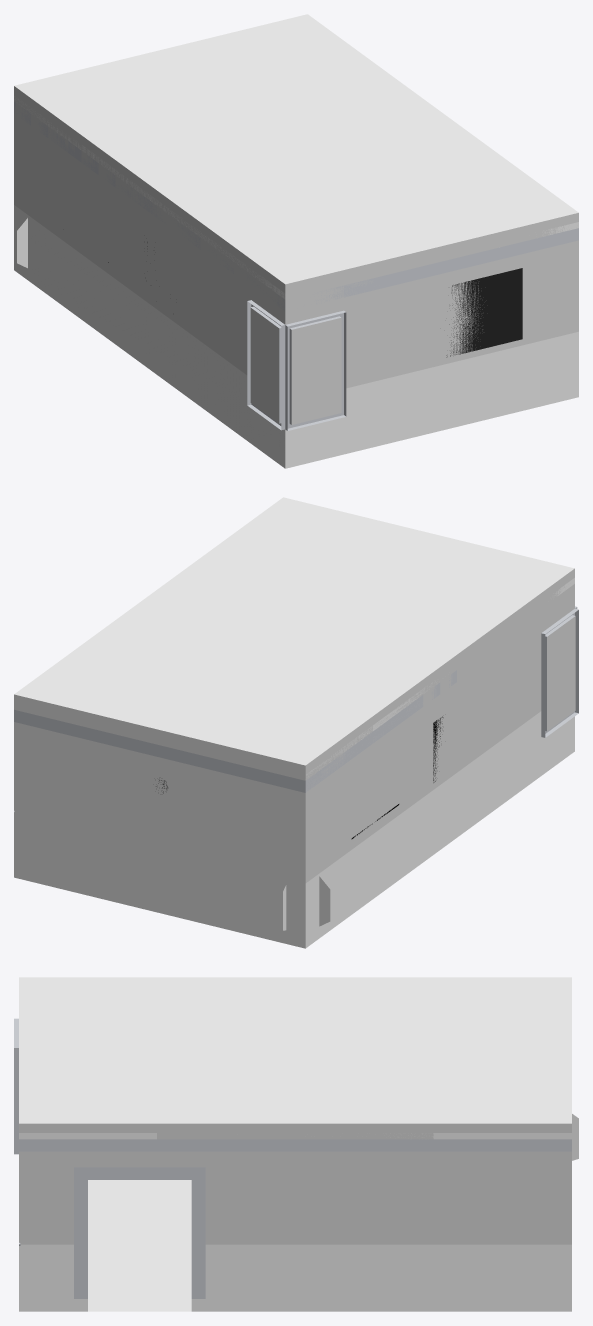
Rendered from 32-livingroom_fbx.glb.
3 views of the same model, one above another, from view 1: azimuth 30°, elevation 25°; view 2: azimuth 150°, elevation 25°; view 3: azimuth 270°, elevation 25° (orthographic). The views are drawn at different scales.
Visible parts, largest first — view 1: Plafon, Wall.001, Wall, Window.001, Picture, Window.002, UpperPlafon, Cube.002; view 2: Plafon, Wall.001, Wall.003, Misc, Misc.001, Window.002, UpperPlafon, Cube.001; view 3: Plafon, Wall.002, Floor, UpperPlafon, Cube.001, Cube, Window.001, SideTegel.102, SideTegel.101, SideTegel.103, SideTegel.104, SideTegel.070 (+34 smaller).
Boxes of the visible parts, <box> form: Plafon: <box>14,14,578,284</box>; Wall.001: <box>14,86,285,468</box>; Wall: <box>285,213,578,468</box>; Window.001: <box>285,310,346,430</box>; Picture: <box>446,268,522,357</box>; Window.002: <box>247,300,285,430</box>; UpperPlafon: <box>242,123,350,174</box>; Cube.002: <box>82,145,216,248</box>; Plafon: <box>14,497,574,765</box>; Wall.001: <box>305,568,574,940</box>; Wall.003: <box>14,694,305,936</box>; Misc: <box>238,777,267,926</box>; Misc.001: <box>52,731,80,881</box>; Window.002: <box>541,608,578,737</box>; UpperPlafon: <box>240,606,348,656</box>; Cube.001: <box>14,703,372,780</box>; Plafon: <box>19,977,571,1123</box>; Wall.002: <box>19,1123,571,1298</box>; Floor: <box>88,1180,191,1311</box>; UpperPlafon: <box>243,1035,347,1064</box>; Cube.001: <box>433,1133,571,1139</box>; Cube: <box>19,1133,156,1139</box>; Window.001: <box>14,1018,18,1154</box>; SideTegel.102: <box>191,1236,205,1267</box>; SideTegel.101: <box>191,1267,205,1298</box>; SideTegel.103: <box>191,1205,205,1236</box>; SideTegel.104: <box>191,1173,205,1204</box>; SideTegel.070: <box>191,1139,226,1151</box>.
Size of the model in its own units: 5.19 by 3 by 8.17.
Materials: 33 (2 with a texture image).
